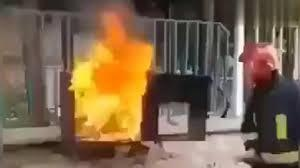fire: (67, 11, 155, 140)
